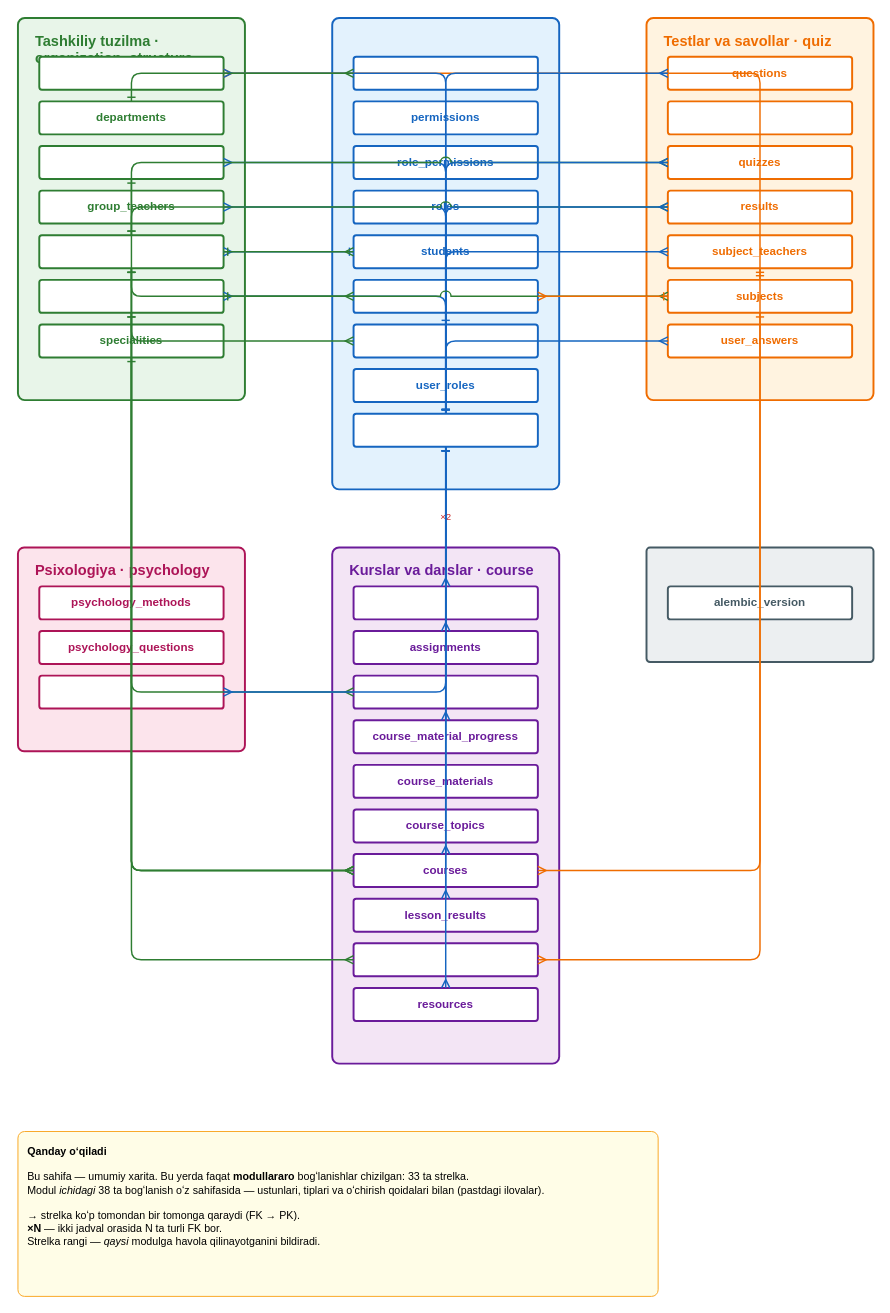
Image size: 890x1313. Some labels were removed from this diagram. The shapes that lost their labels are listed below. From the top down, each one's box as (x1, y1, x2, y2) in pixels, then its label:
(38, 55, 224, 90): curriculum
(352, 55, 538, 90): employees
(666, 100, 853, 135): quiz_questions
(38, 145, 224, 179): faculties
(38, 234, 224, 269): groups
(331, 16, 560, 490): Autentifikatsiya va shaxslar · auth
(38, 278, 224, 313): kafedras
(352, 278, 538, 313): teacher_assignments
(352, 323, 538, 358): teachers
(352, 412, 538, 447): users
(352, 585, 538, 620): assignment_submissions
(645, 546, 874, 663): Xizmat jadvallari · other
(38, 674, 224, 709): psychology_results
(352, 674, 538, 709): course_groups
(352, 942, 538, 977): lessons
